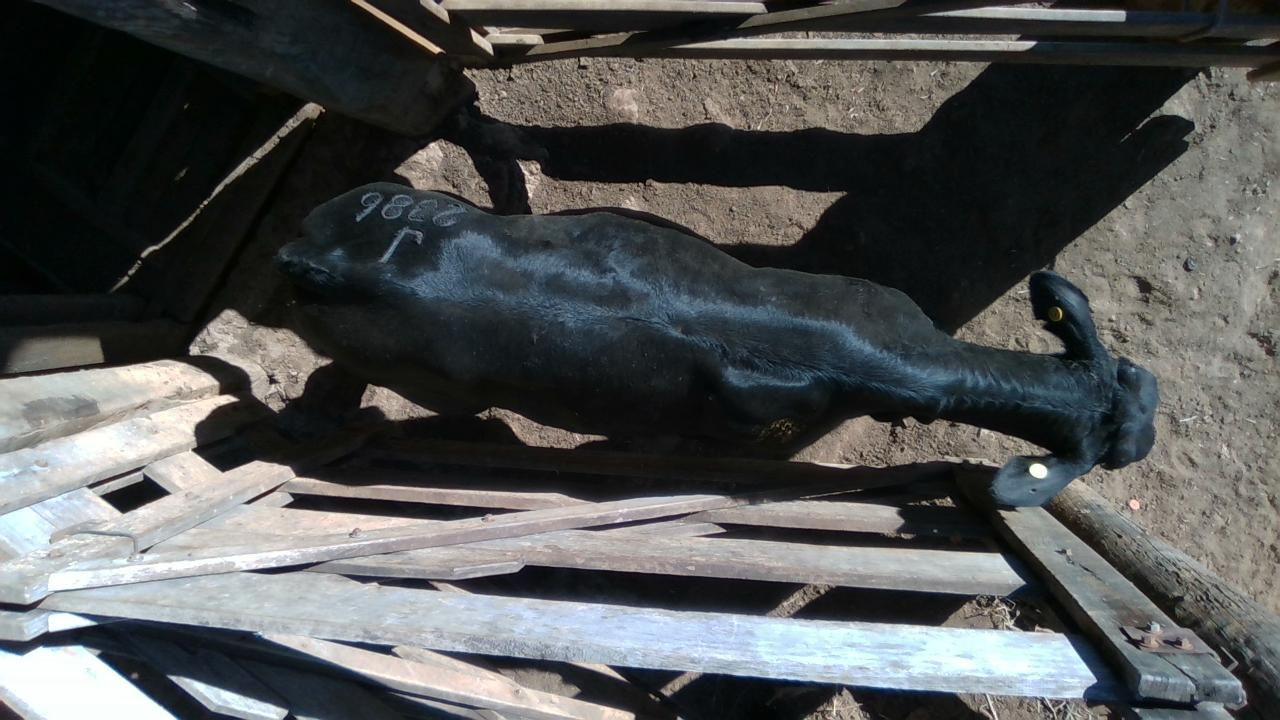cattle: (272, 179, 1160, 509)
